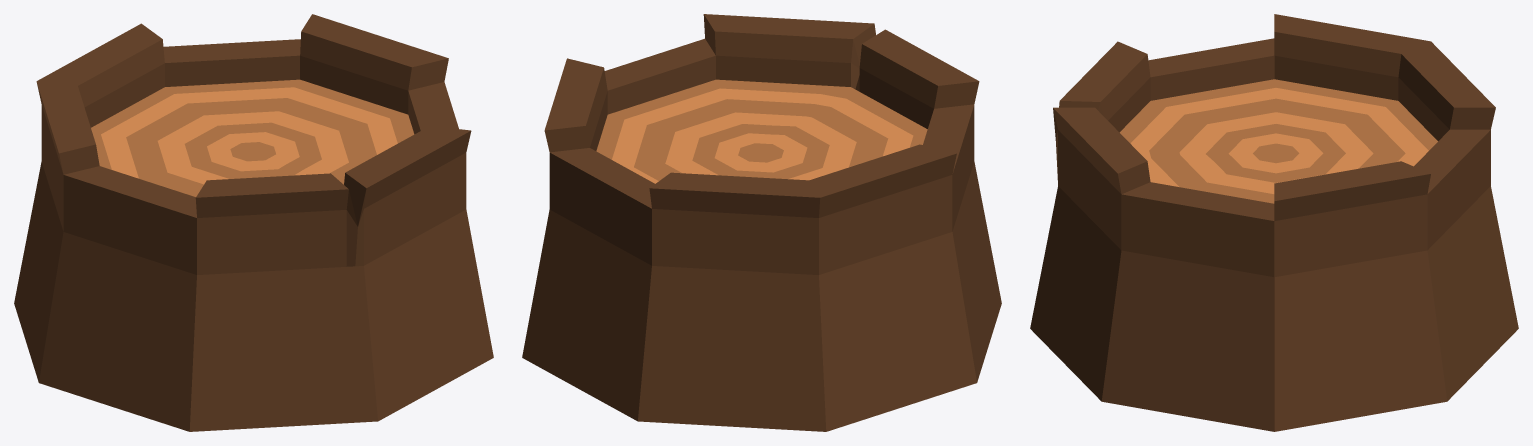
The model's file is TreeStump1.glb.
3 renders of one model, left to right at view 1: azimuth 30°, elevation 25°; view 2: azimuth 150°, elevation 25°; view 3: azimuth 270°, elevation 25°, orthographic.
Visible parts, largest first — view 1: Tree Stump 1; view 2: Tree Stump 1; view 3: Tree Stump 1.
Boxes of the visible parts, left/top/right/bottom form: Tree Stump 1: left=14, top=14, right=493, bottom=431; Tree Stump 1: left=522, top=14, right=1001, bottom=431; Tree Stump 1: left=1030, top=14, right=1518, bottom=431.
Size of the model in its own units: 11.97 by 5.97 by 11.97.
